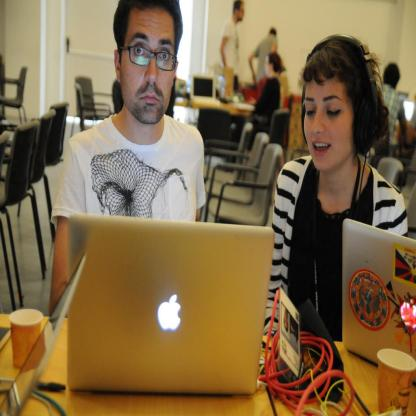board: (65, 210, 273, 393), (342, 218, 416, 385), (190, 76, 221, 102)
